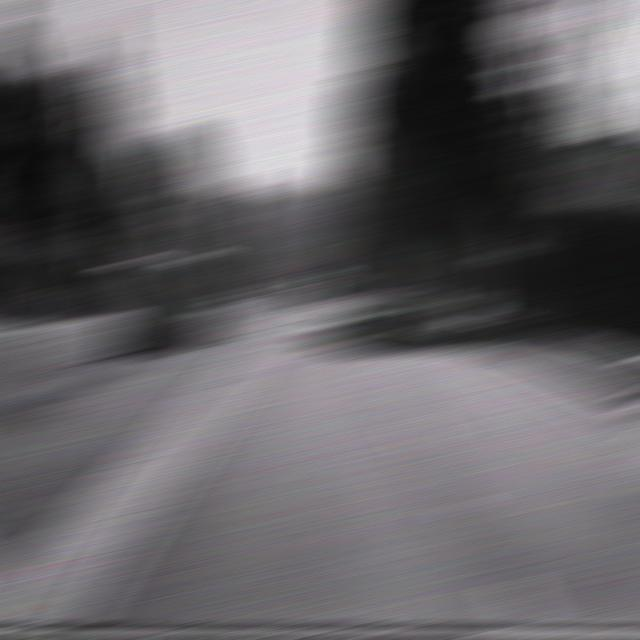pedestrianCrossing: (218, 190, 263, 229), (482, 189, 526, 225)
